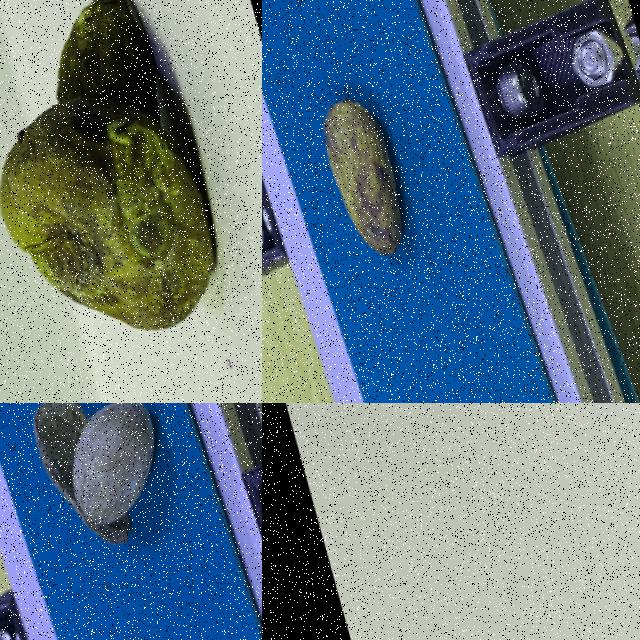Agglomerated_cocoabeans: (0, 0, 261, 402), (0, 403, 230, 638), (497, 403, 639, 542)
Fine_cocoabeans: (276, 43, 468, 336)
